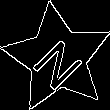N_NE: (26, 27, 89, 90)
